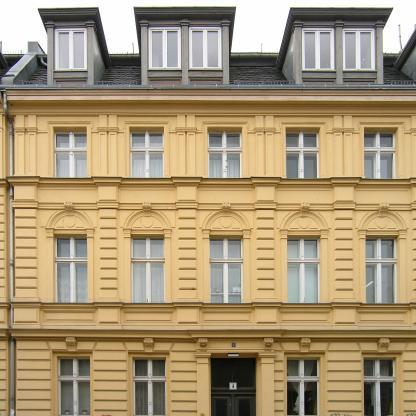Building Outline: (5, 6, 416, 416)
Cornice: (43, 202, 94, 235), (358, 202, 409, 235), (201, 202, 252, 235), (279, 202, 330, 235), (122, 202, 172, 235), (356, 337, 409, 352), (122, 337, 175, 352), (46, 336, 98, 351), (279, 337, 331, 352)
Deco: (263, 337, 274, 352), (198, 337, 209, 352)
Door: (209, 352, 262, 416), (210, 391, 256, 416)
Facade: (6, 6, 416, 415)
Floor: (8, 203, 415, 328), (8, 100, 415, 191)
Floor Slab: (8, 190, 415, 203), (8, 329, 415, 341), (8, 88, 415, 100)
Ground Floor: (8, 341, 415, 416)
Molding: (5, 100, 416, 115), (6, 328, 416, 342), (5, 176, 416, 188), (10, 200, 416, 211), (8, 301, 416, 309)
Pillar: (15, 209, 36, 298), (256, 209, 275, 298), (335, 209, 353, 298), (99, 209, 117, 298), (178, 209, 196, 298), (13, 115, 38, 176), (331, 115, 354, 177), (96, 115, 119, 176), (253, 115, 276, 176), (175, 115, 197, 176), (410, 115, 416, 177), (412, 209, 416, 298)
Roof: (5, 6, 416, 90)
Top Floor: (5, 6, 416, 90)
Window: (128, 352, 170, 416), (362, 352, 403, 416), (284, 352, 325, 416), (52, 351, 92, 416), (53, 235, 87, 303), (131, 235, 165, 303), (209, 235, 243, 303), (287, 235, 321, 303), (366, 235, 399, 303), (132, 357, 166, 416), (287, 357, 321, 416), (57, 356, 90, 416), (364, 357, 397, 416), (129, 126, 164, 178), (52, 126, 87, 177), (364, 127, 398, 178), (208, 127, 242, 178), (286, 127, 320, 178), (130, 132, 165, 177), (286, 131, 319, 178), (208, 132, 242, 177), (54, 132, 87, 178), (210, 358, 256, 391), (364, 132, 396, 179), (301, 28, 335, 70), (189, 27, 222, 69), (342, 28, 375, 70), (55, 28, 87, 70), (149, 27, 181, 69)
